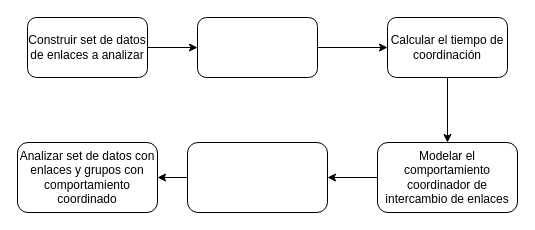
The diagram is 535 pixels wide and 230 high, and some of its shapes have lost their labels. The box of each missing label's shape, as (x1, y1, x2, y2) in pixels:
Analizar grafo de comunidades con comportamiento coordinado: (186, 142, 328, 212)
Obtener información de las redes sociales donde se compartió el enlace: (196, 16, 318, 78)
